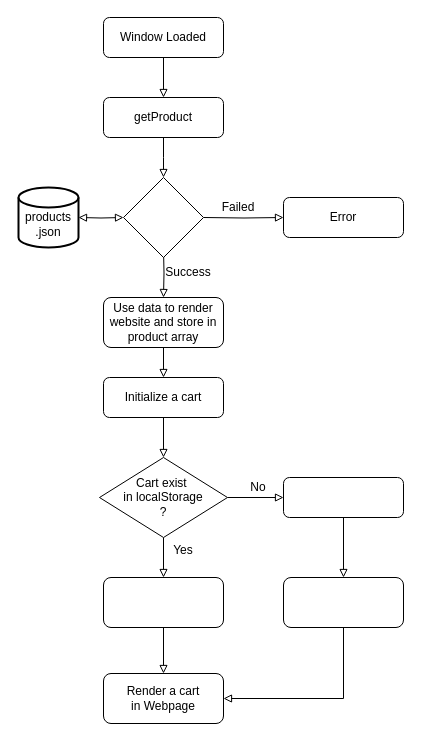
Image size: 421x741. Some labels were removed from this diagram. The shapes that lost their labels are listed below. From the top down, each one's centre as x and y in pixels, then its label:
At point 163,217: "Get data from json".
At point 343,497: "Create empty cart".
At point 163,602: "Get exist cart item and put in a current cart".
At point 343,602: "Upload a cart onto localStorage".
